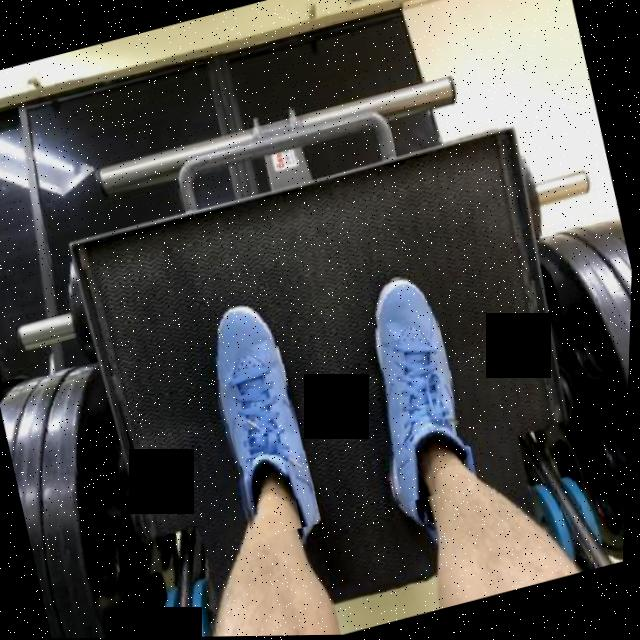shoe: (343, 268, 486, 507), (194, 297, 330, 543)
